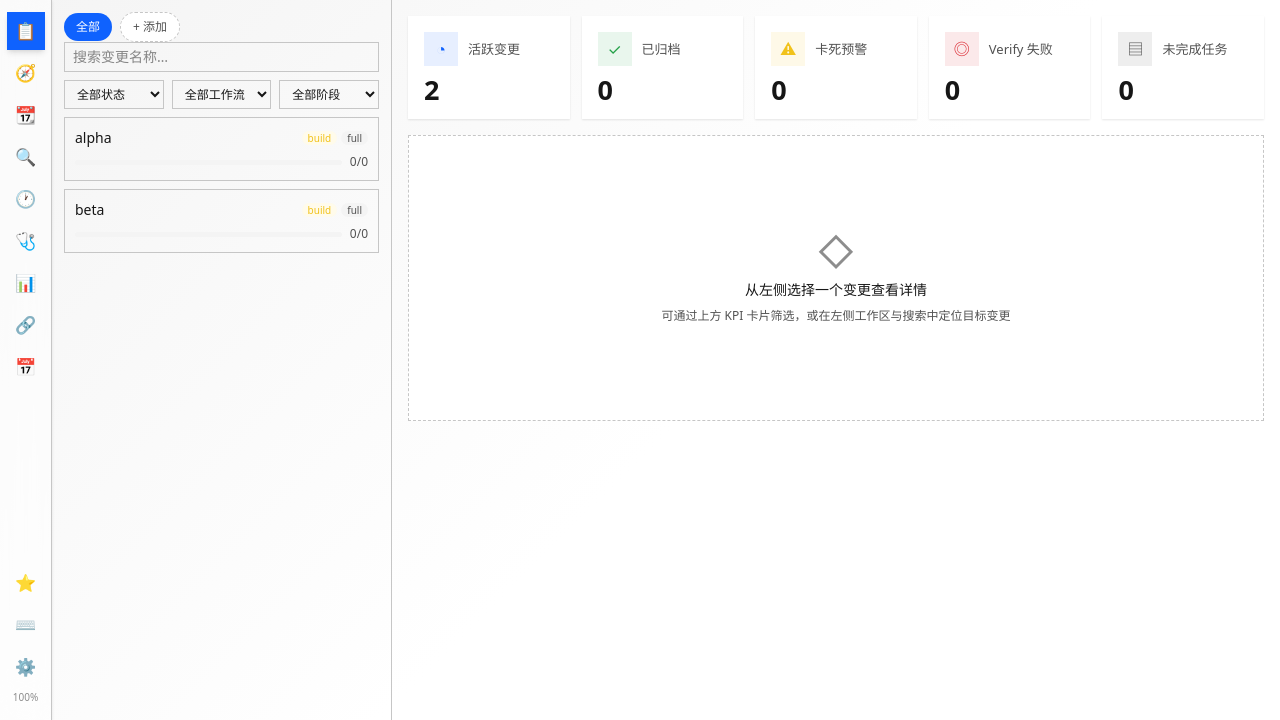
Test: App › opening an artifact keeps the change list visible and mounted (persistent 2-pane, not a fullscreen overlay)
Click the text "alpha".
click(93, 138)  # box 75,128 -> 112,148
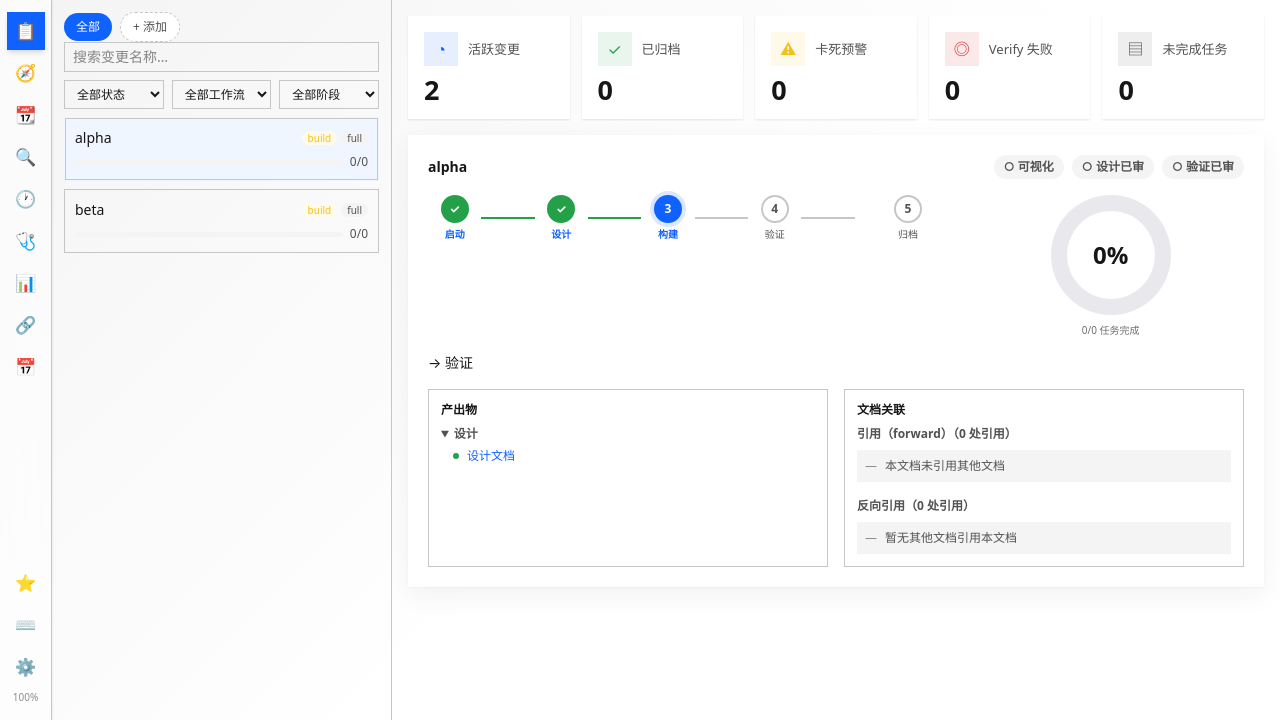
Click the button "设计文档".
click(491, 456)  # box 467,448 -> 515,464
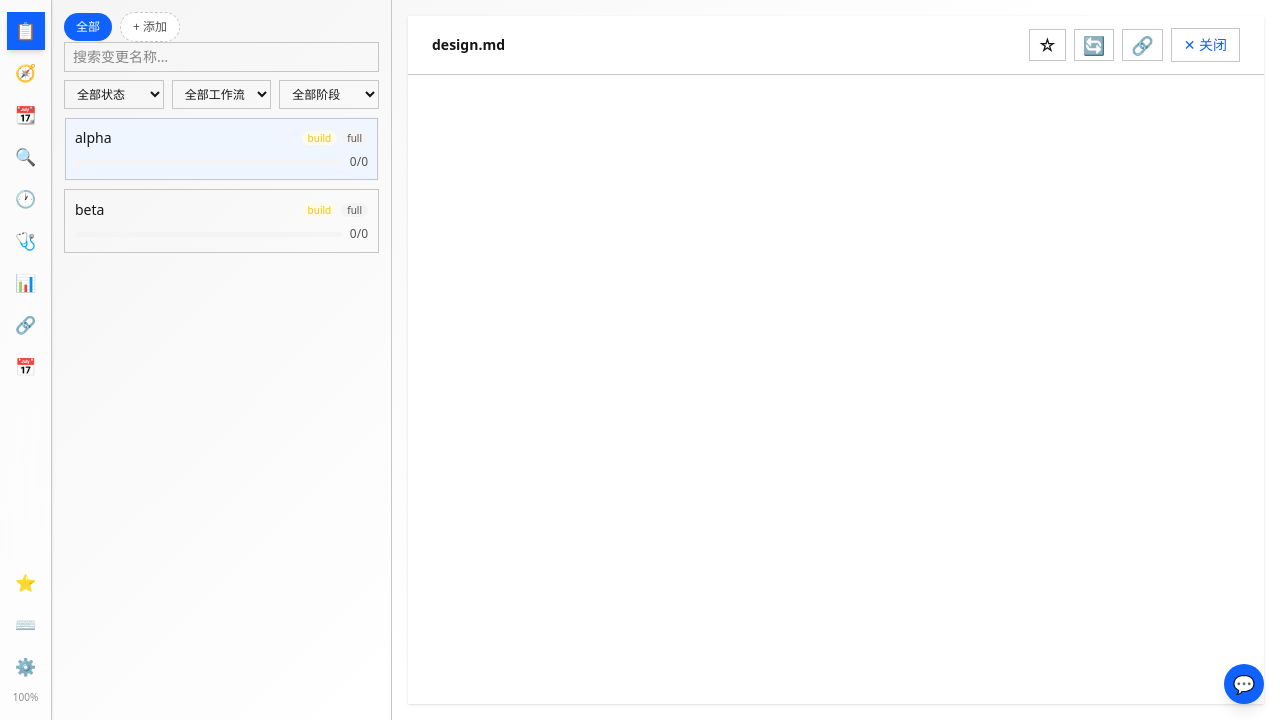
Expected: the text "alpha" is shown, 75,128 -> 112,148
Expected: the button "✕ 关闭" is shown
Click the button "✕ 关闭".
click(1205, 45)  # box 1171,28 -> 1240,62
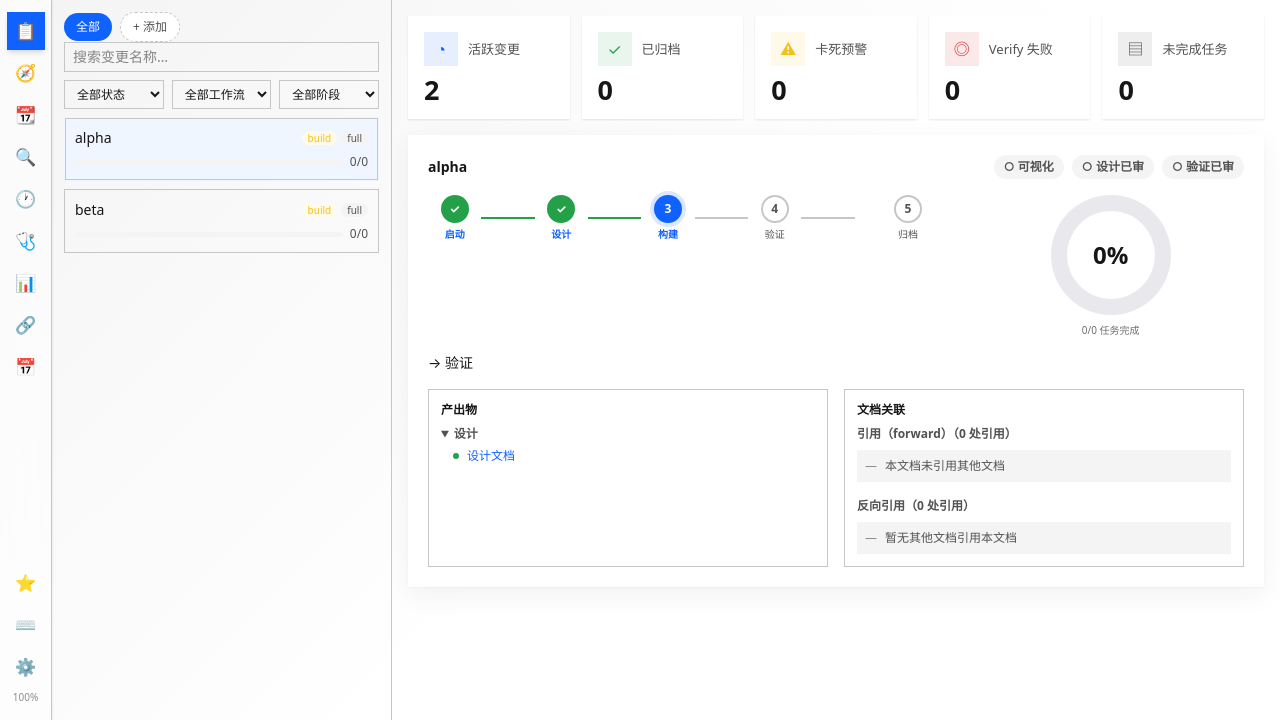
Expected: the button "✕ 关闭" is gone
